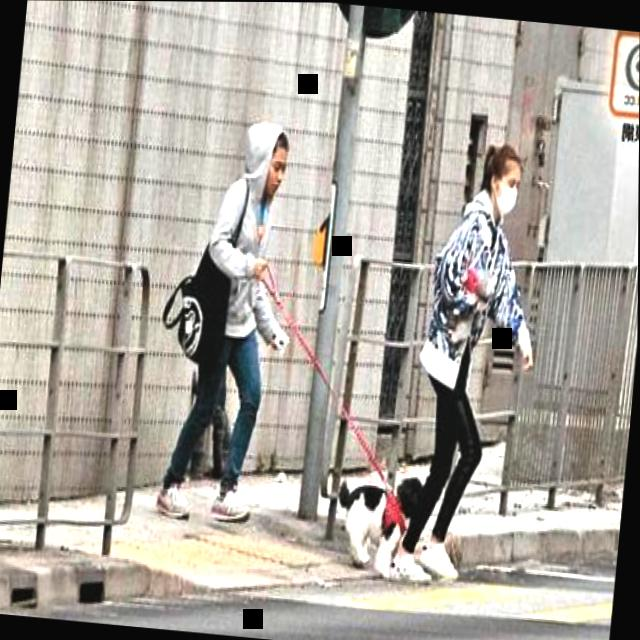Fall-Detected: (327, 447, 441, 586)
